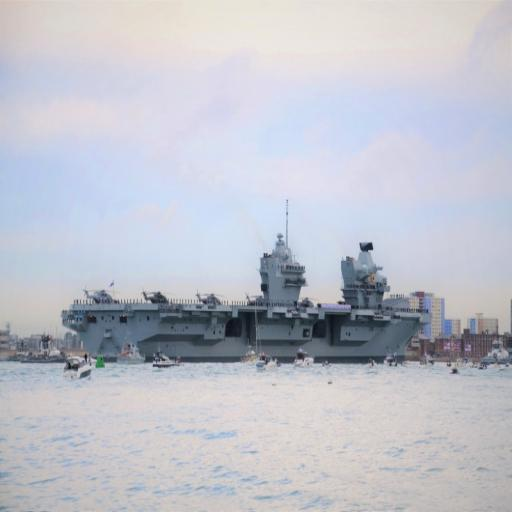Portanaves: (60, 201, 435, 369)
